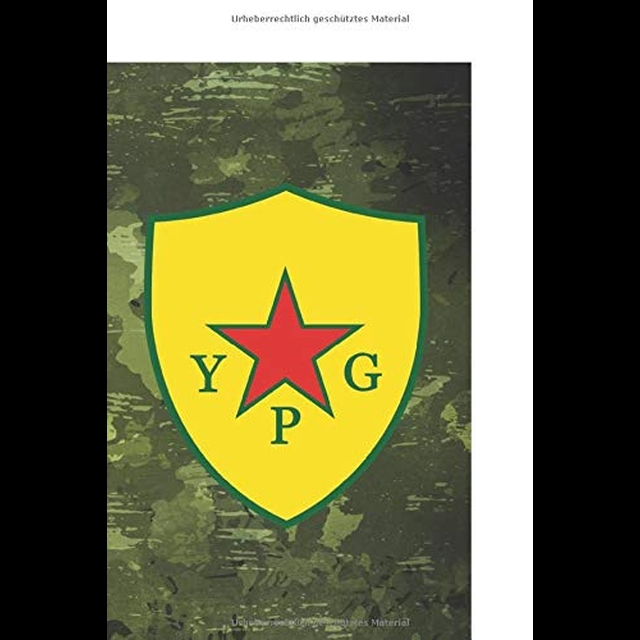YPG: (189, 260, 386, 449)
